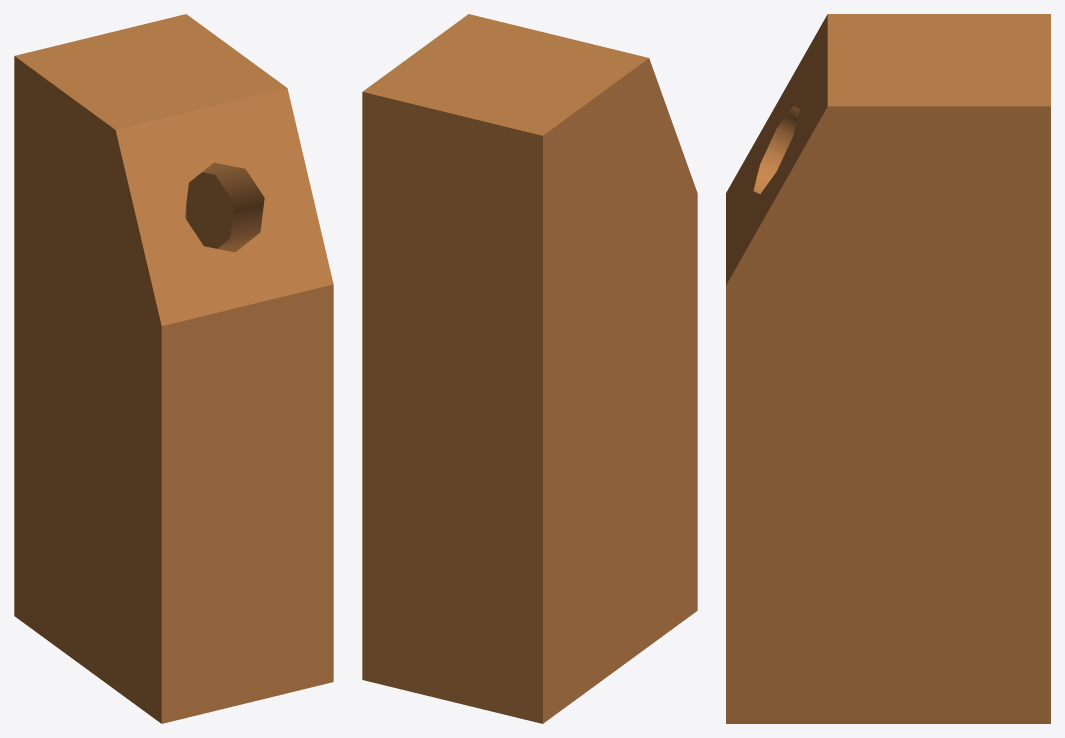
The model's file is bin_recycle.fbx.
3 views of the same model, side by side, from view 1: azimuth 30°, elevation 25°; view 2: azimuth 150°, elevation 25°; view 3: azimuth 270°, elevation 25° (orthographic). The views are drawn at different scales.
Parts seen in each view (by area): view 1: binRecycle; view 2: binRecycle; view 3: binRecycle.
Part boxes in pixels (box(x1,y1,x2,y2)): binRecycle: box(14, 14, 333, 723); binRecycle: box(362, 14, 697, 723); binRecycle: box(726, 14, 1050, 723).
Size of the model in its own units: 35.53 by 111 by 52.76.
